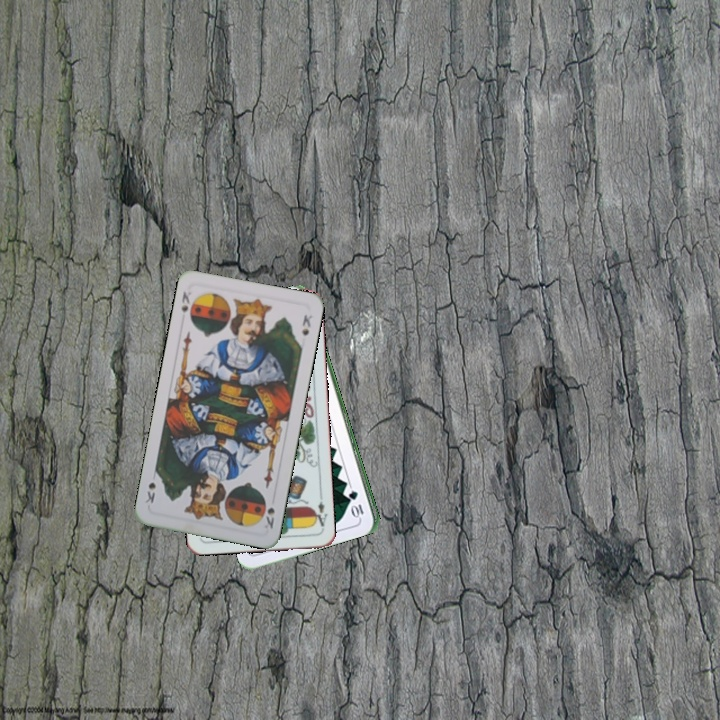EA: (309, 497, 329, 532)
G10: (347, 486, 366, 520)
SK: (259, 498, 277, 531), (177, 287, 194, 315)
